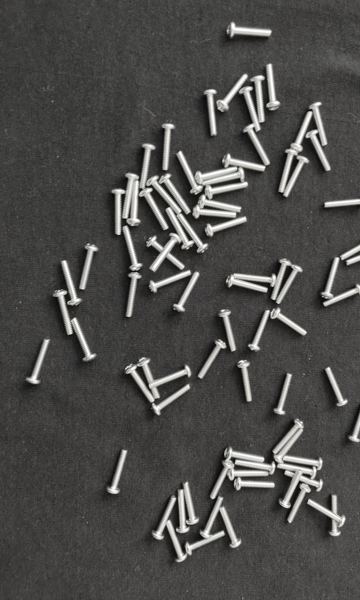longscrew: (145, 235, 187, 272), (160, 173, 194, 216), (150, 384, 194, 417), (241, 122, 273, 167), (138, 187, 170, 232), (147, 175, 183, 215), (178, 212, 211, 255), (216, 72, 250, 113), (166, 207, 196, 252), (177, 150, 205, 197), (150, 494, 178, 541), (125, 364, 157, 405), (306, 129, 334, 175), (150, 233, 182, 273), (51, 287, 76, 338), (306, 498, 348, 528), (26, 337, 52, 385), (173, 271, 202, 314), (71, 317, 98, 363), (276, 262, 304, 306), (198, 338, 227, 380), (272, 418, 304, 456), (283, 154, 310, 199), (105, 448, 130, 496), (274, 427, 305, 465), (59, 259, 83, 308), (136, 357, 162, 402), (198, 495, 224, 540), (147, 269, 193, 294), (185, 530, 226, 558), (149, 364, 193, 390), (209, 457, 235, 501), (271, 308, 309, 338), (323, 366, 350, 408), (240, 86, 263, 134), (121, 225, 144, 273), (248, 309, 273, 353), (287, 484, 313, 526), (308, 102, 331, 148), (291, 109, 315, 153), (220, 152, 268, 174), (219, 506, 243, 550), (204, 216, 249, 239), (224, 274, 271, 296), (78, 243, 99, 292), (165, 519, 188, 563), (279, 469, 304, 509), (217, 308, 239, 353), (322, 283, 360, 309), (263, 64, 283, 113), (225, 21, 274, 41), (320, 256, 342, 300), (278, 148, 299, 194), (198, 194, 243, 215), (201, 167, 246, 188), (195, 165, 240, 186), (283, 470, 324, 493), (271, 258, 292, 302), (249, 74, 267, 125), (201, 88, 219, 138), (205, 180, 250, 200), (139, 141, 157, 190), (124, 271, 142, 320), (273, 373, 293, 417), (236, 359, 255, 404), (182, 481, 201, 526), (123, 172, 140, 221), (232, 271, 278, 289), (325, 494, 343, 539), (233, 458, 278, 476), (160, 122, 176, 172), (110, 187, 126, 237), (223, 446, 267, 464), (127, 179, 143, 228), (191, 205, 239, 221), (175, 489, 191, 535), (282, 455, 325, 472), (278, 462, 318, 480), (228, 466, 270, 482), (323, 193, 360, 211), (233, 477, 277, 492), (339, 232, 360, 261), (347, 401, 360, 444), (345, 242, 360, 267)
